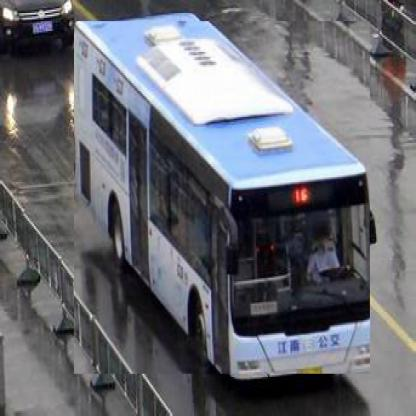bus: (75, 22, 372, 376)
